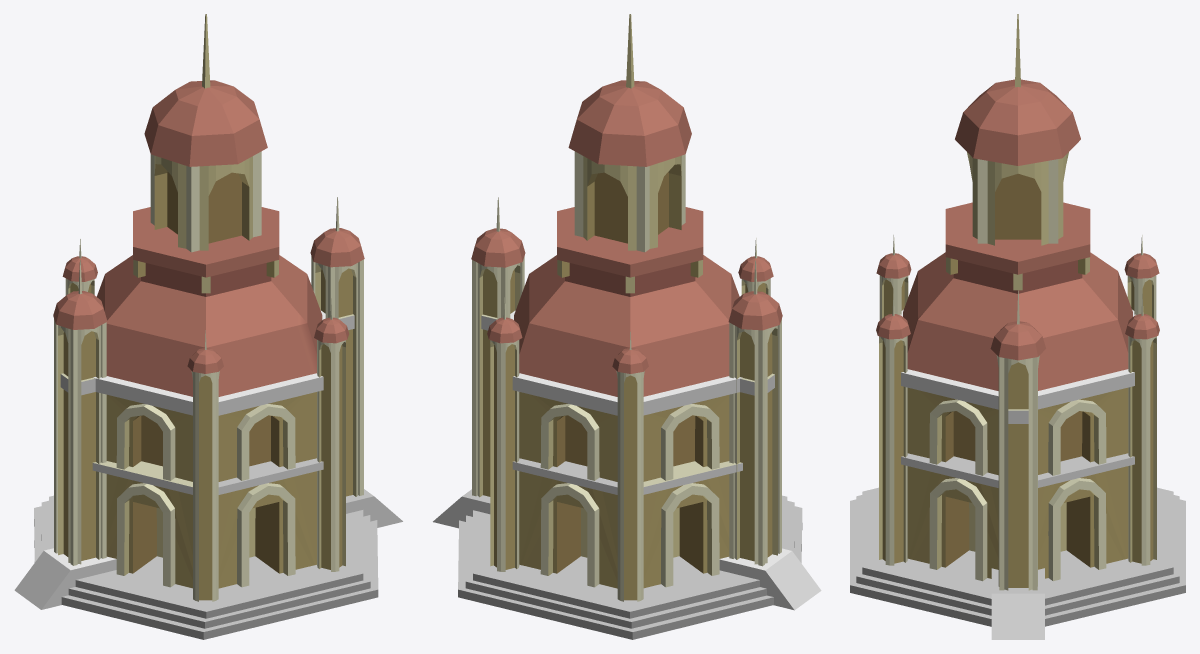
File: temple_010.glb
3 renders of one model, left to right at view 1: azimuth 30°, elevation 25°; view 2: azimuth 150°, elevation 25°; view 3: azimuth 270°, elevation 25°, orthographic.
Parts seen in each view (by area): view 1: temple_010; view 2: temple_010; view 3: temple_010.
Boxes of the visible parts, x1=… form: temple_010: x1=14, y1=14, x2=402, y2=639; temple_010: x1=433, y1=14, x2=821, y2=639; temple_010: x1=850, y1=14, x2=1185, y2=639.
Size of the model in its own units: 14.55 by 20.83 by 11.8.
1 material, 1 textured.
